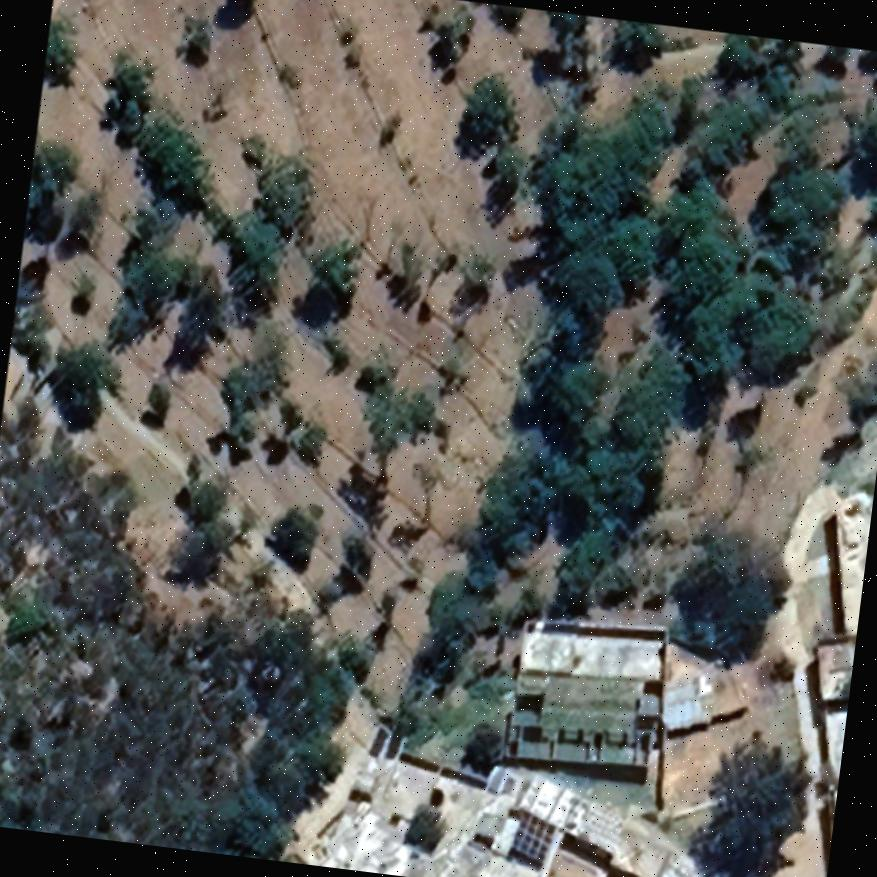Solarpanel: (507, 809, 557, 864)
